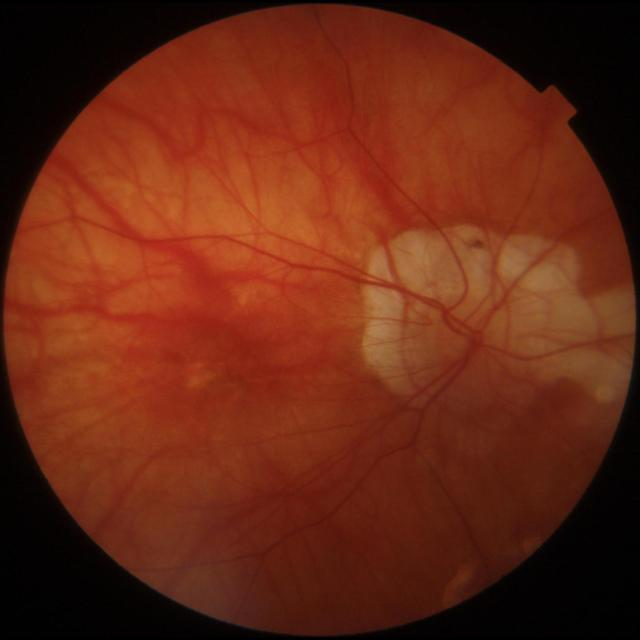OD: (405, 279, 533, 405)
